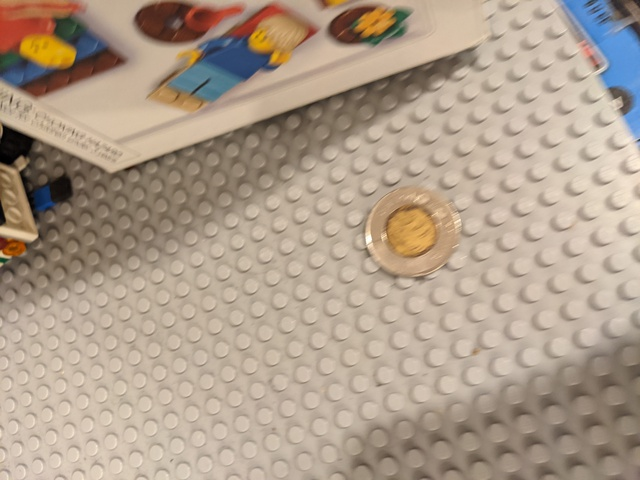twonie: (351, 183, 470, 290)
